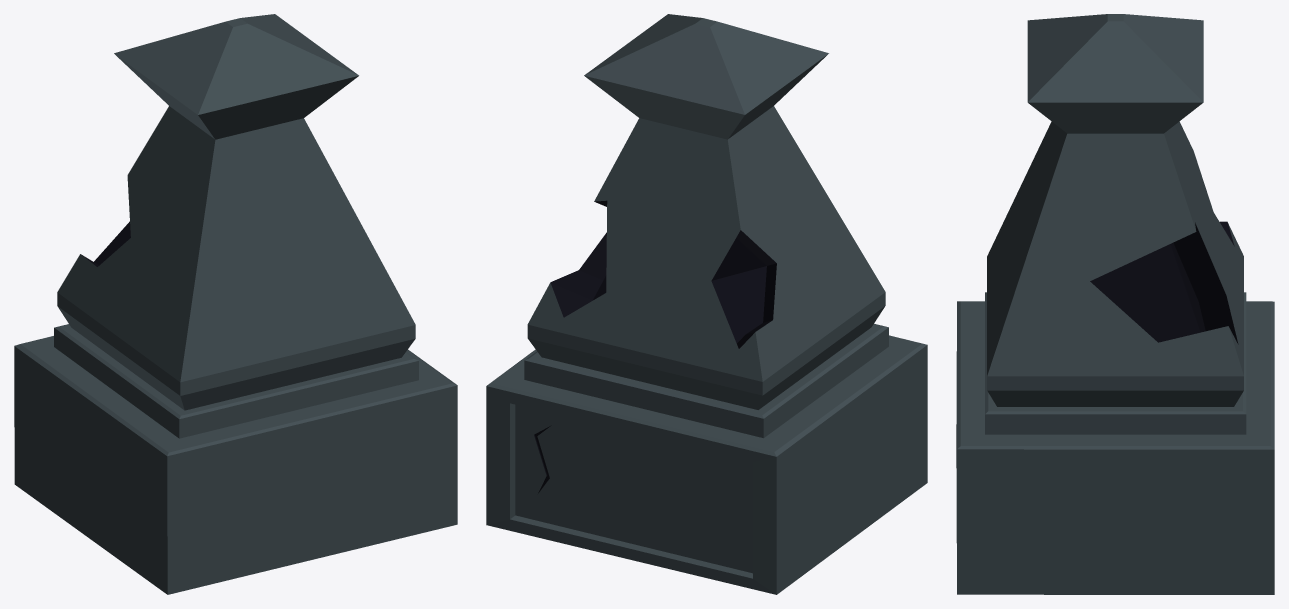
File: Kuburan 3.fbx
The picture shows the model from 3 angles, left to right: view 1: azimuth 30°, elevation 25°; view 2: azimuth 150°, elevation 25°; view 3: azimuth 270°, elevation 25°; orthographic projection. The views are drawn at different scales.
Visible parts, largest first — view 1: Cube.016; view 2: Cube.016; view 3: Cube.016.
Boxes of the visible parts, box(x1,y1,x2,y2) form: Cube.016: box(14, 14, 457, 594); Cube.016: box(486, 14, 927, 594); Cube.016: box(956, 14, 1274, 594).
Bounding box in the file's own units: 301 × 476 × 273.
